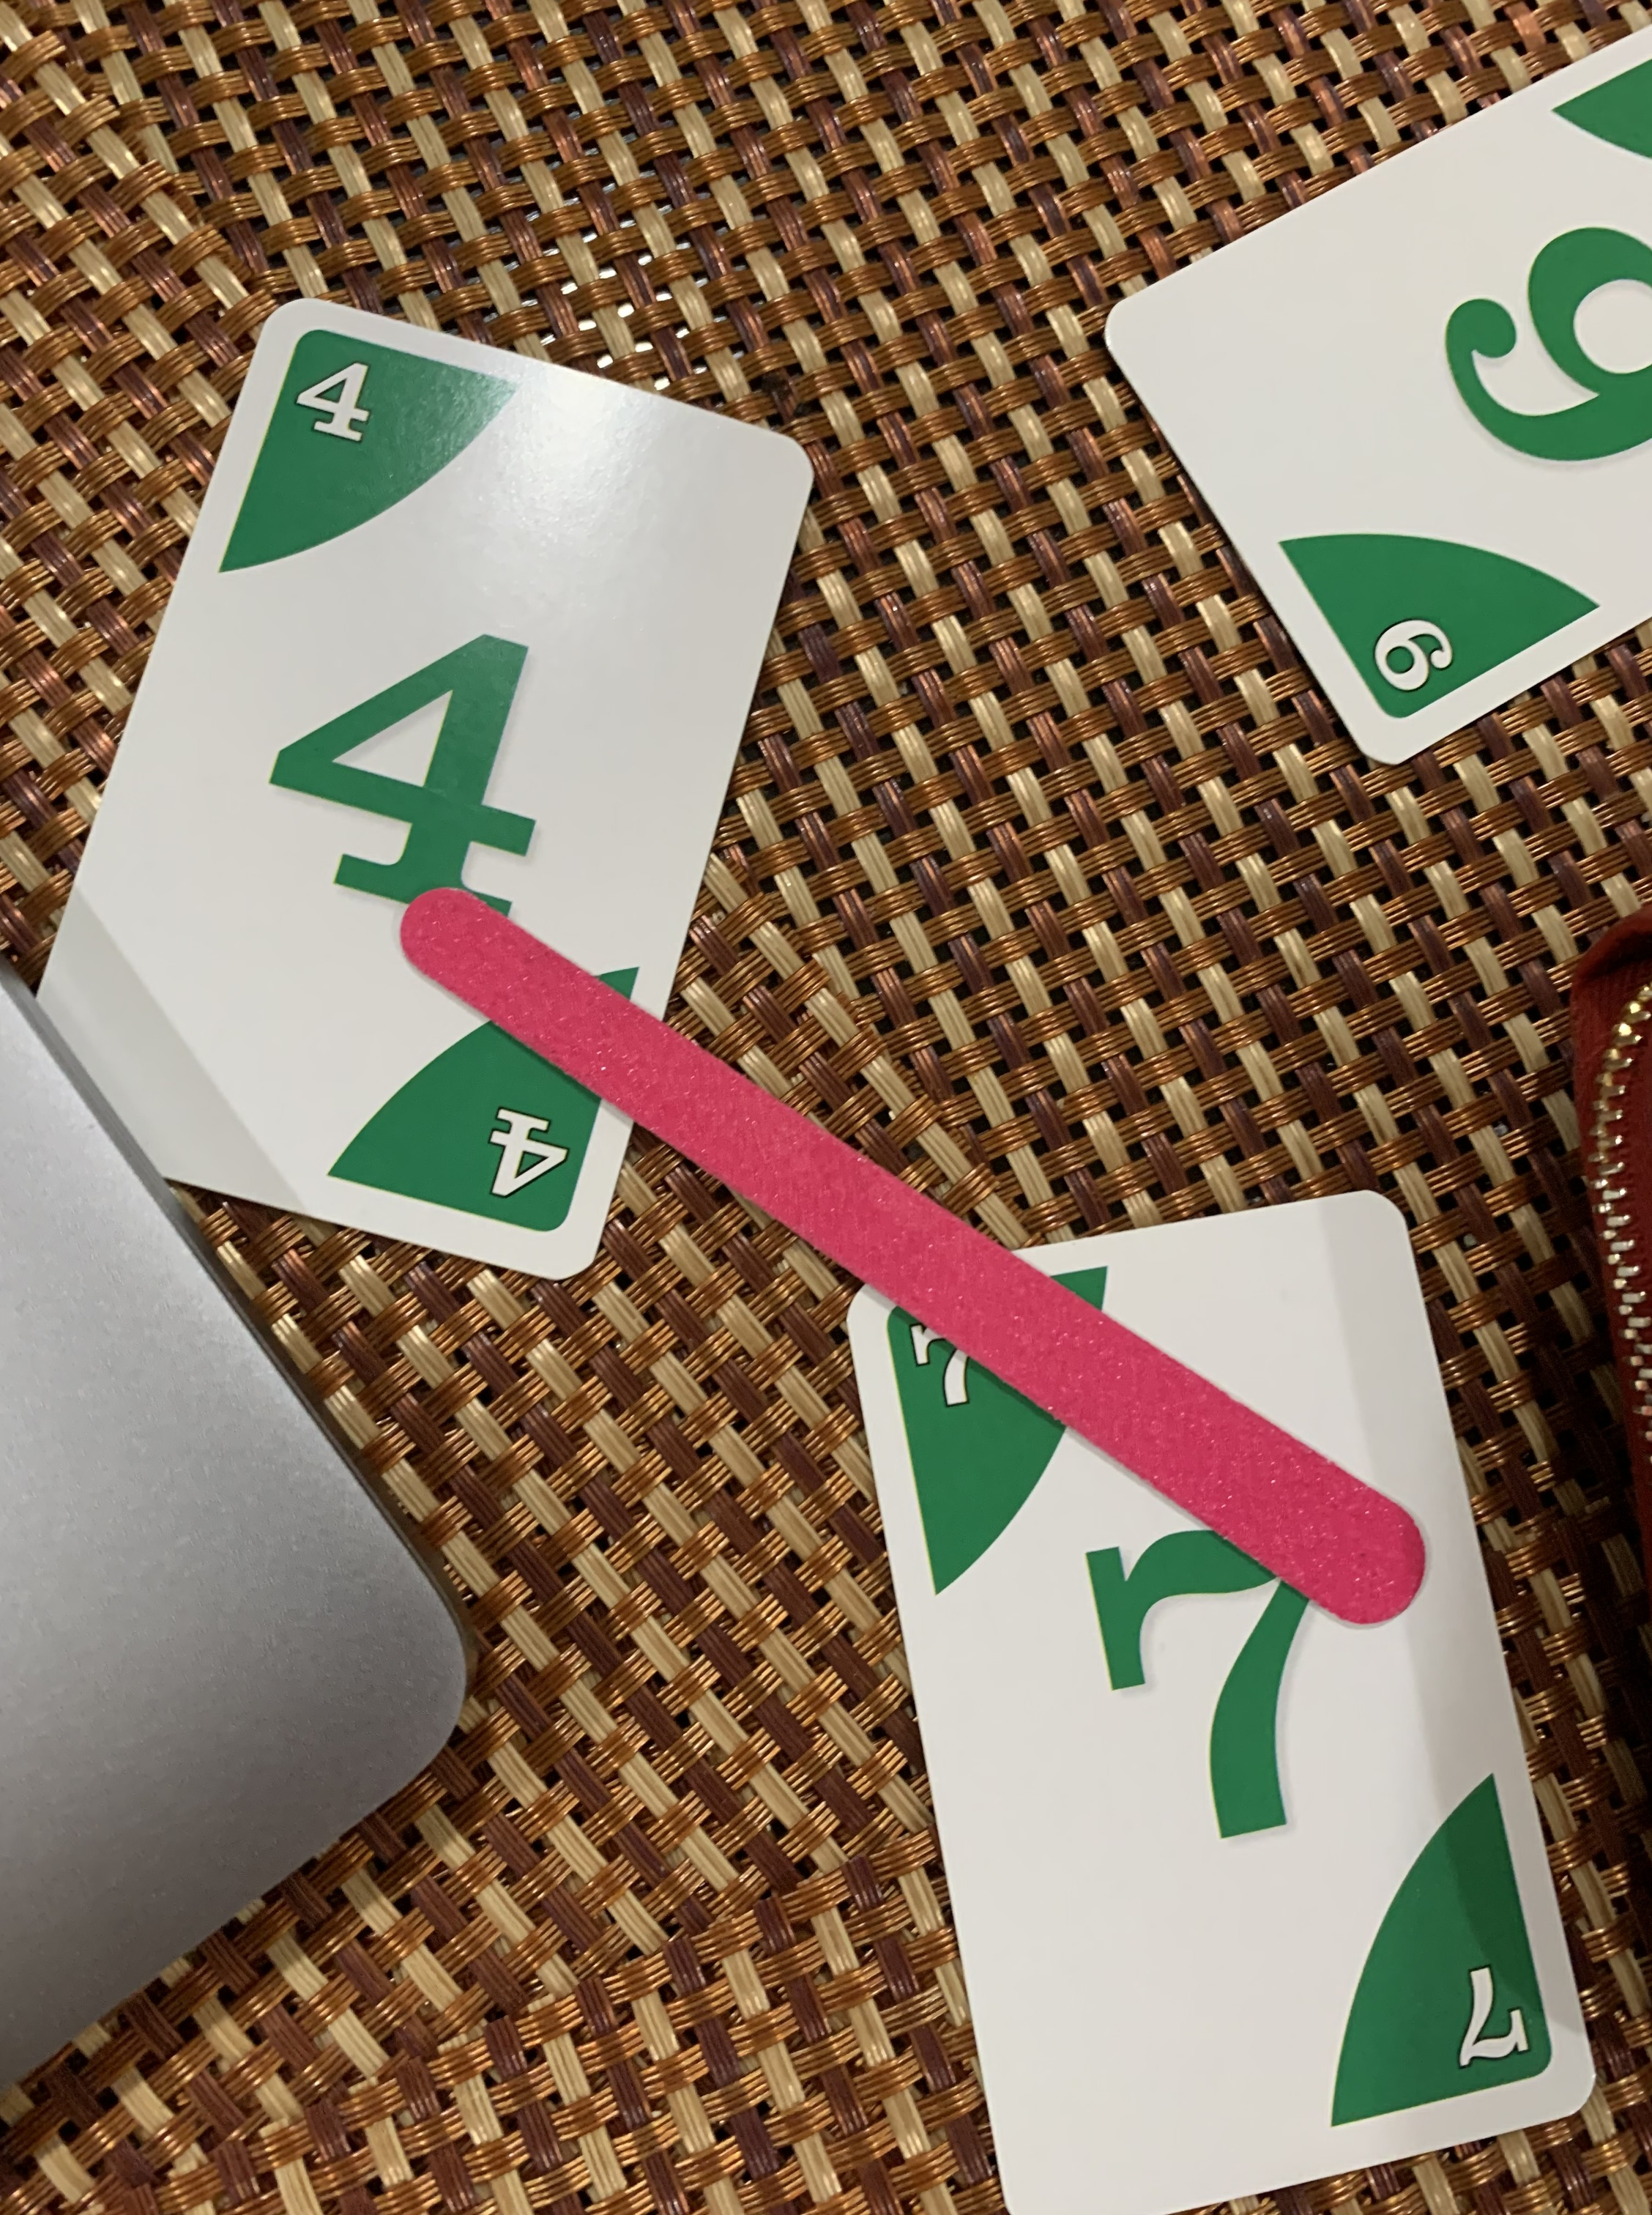four: (5, 255, 845, 1300)
seven: (829, 1168, 1612, 2215)
